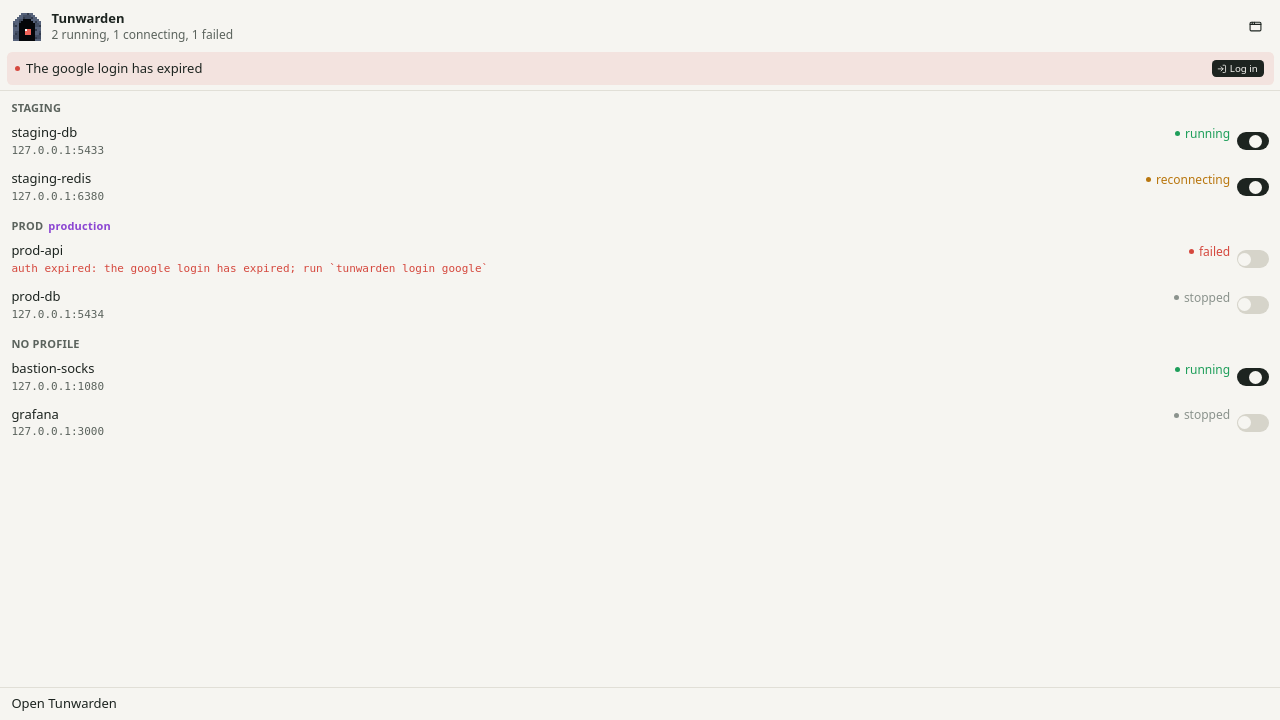
dashboard against the mock daemon › the tray popover lists tunnels with switches and asks before starting production
Expected: the text "staging-db" is shown, [11,123,77,143]
Click the switch named "Stop staging-db": (1253, 141) [1237,132,1269,150]
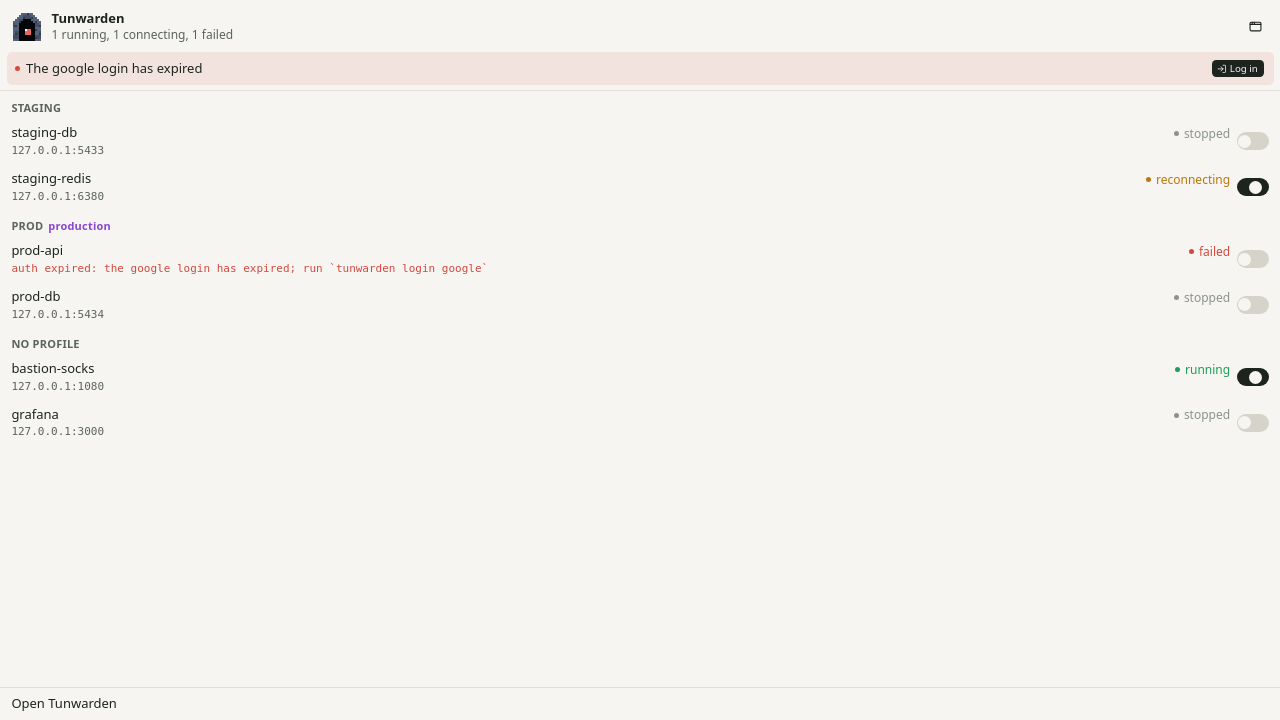
Click the switch named "Start prod-db": (1253, 305) [1237,296,1269,314]
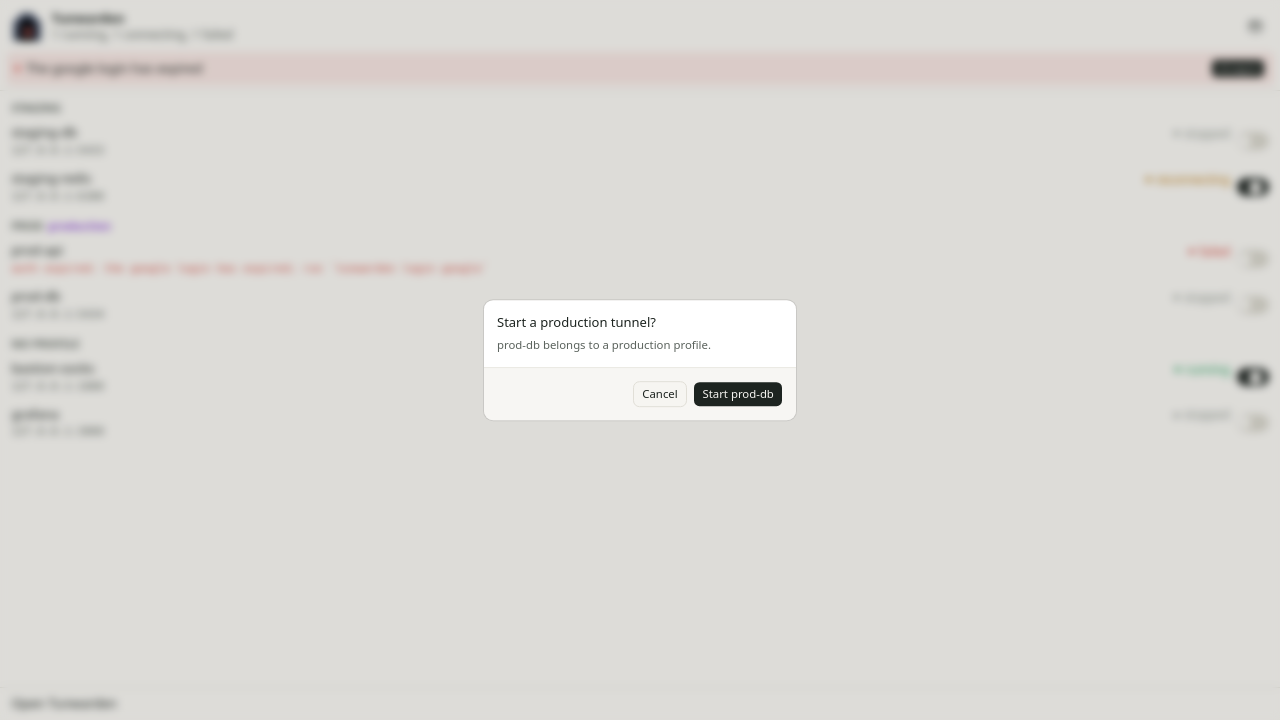
Now the dialog is shown, box [484,300,796,420]
